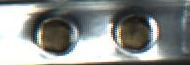joints: (20, 8, 82, 56), (109, 6, 160, 58)
